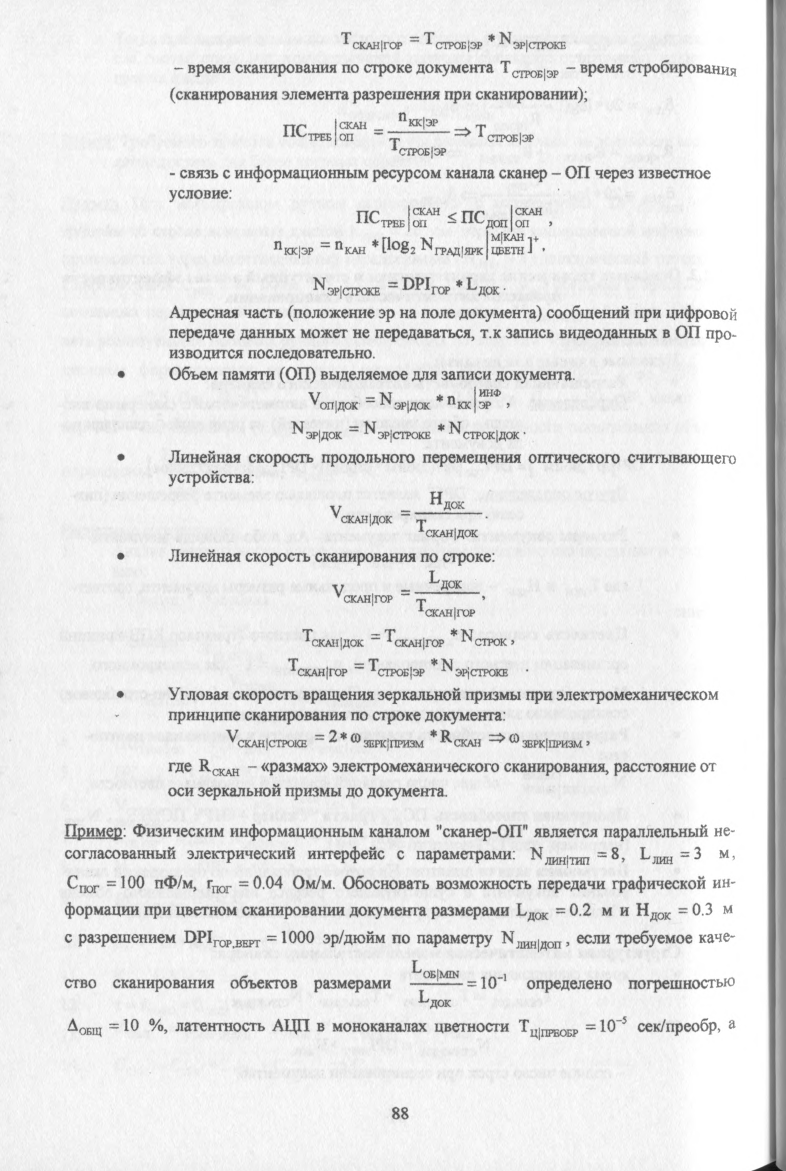DPI.гор: (400, 273, 451, 295)
H.док: (426, 489, 465, 511)
L.док: (426, 567, 463, 590), (464, 274, 500, 296)
N.град.ярк.м.кан.цветн: (420, 229, 527, 258)
N.строк: (460, 627, 510, 648)
N.строк.док: (447, 419, 522, 441)
N.эр.док: (288, 418, 345, 442), (377, 390, 431, 411)
N.эр.строке: (498, 28, 570, 51), (362, 419, 433, 442), (439, 656, 510, 678), (312, 274, 381, 296)
R.скан: (440, 726, 484, 748)
T.скан.гор: (338, 27, 404, 53), (414, 596, 478, 620), (285, 656, 349, 679), (380, 628, 445, 648)
T.скан.док: (414, 518, 482, 539), (301, 627, 364, 648)
T.строб.эр: (387, 135, 450, 158), (422, 29, 485, 51), (366, 656, 425, 677)
V.оп.док: (306, 390, 359, 412)
V.скан.гор: (330, 579, 394, 606)
V.скан.док: (327, 501, 395, 527)
V.скан.строке: (224, 726, 308, 749)
group: (275, 109, 453, 162), (324, 486, 489, 541), (268, 229, 541, 261), (327, 567, 485, 621), (220, 723, 487, 751), (333, 24, 573, 54), (283, 418, 523, 447), (300, 383, 506, 414), (306, 269, 509, 299), (296, 625, 512, 650), (282, 656, 514, 679)
n.кан: (333, 238, 368, 257)
n.кк.инф.эр: (444, 385, 503, 412)
n.кк.эр: (271, 238, 315, 259), (396, 109, 441, 128)
ω.зерк.призм: (349, 729, 427, 750)
ПС.треб.скан.оп: (280, 113, 370, 145)
